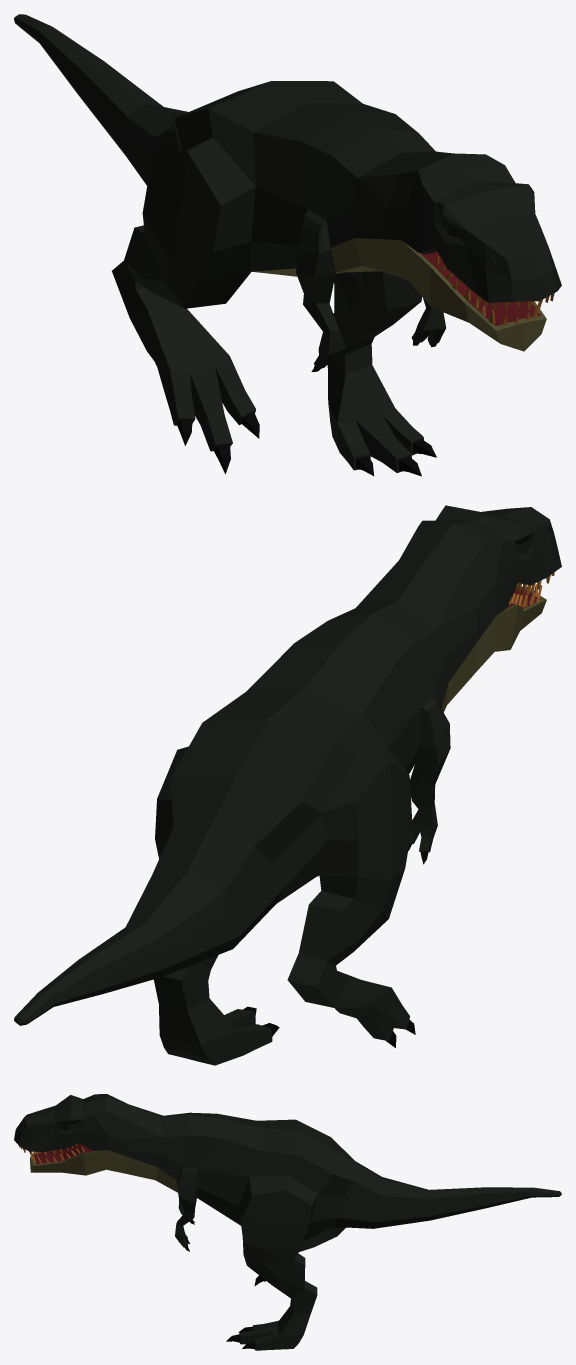
File: Trex_000008.obj
The picture shows the model from 3 angles, top to bottom: view 1: azimuth 30°, elevation 25°; view 2: azimuth 150°, elevation 25°; view 3: azimuth 270°, elevation 25°; orthographic projection. The views are drawn at different scales.
Visible parts, largest first — view 1: Trex_Cylinder; view 2: Trex_Cylinder; view 3: Trex_Cylinder.
Boxes of the visible parts, x1=… form: Trex_Cylinder: x1=14, y1=14, x2=561, y2=476; Trex_Cylinder: x1=14, y1=505, x2=561, y2=1065; Trex_Cylinder: x1=14, y1=1094, x2=561, y2=1350.
Bounding box in the file's own units: 7.95 × 14.17 × 31.32.
